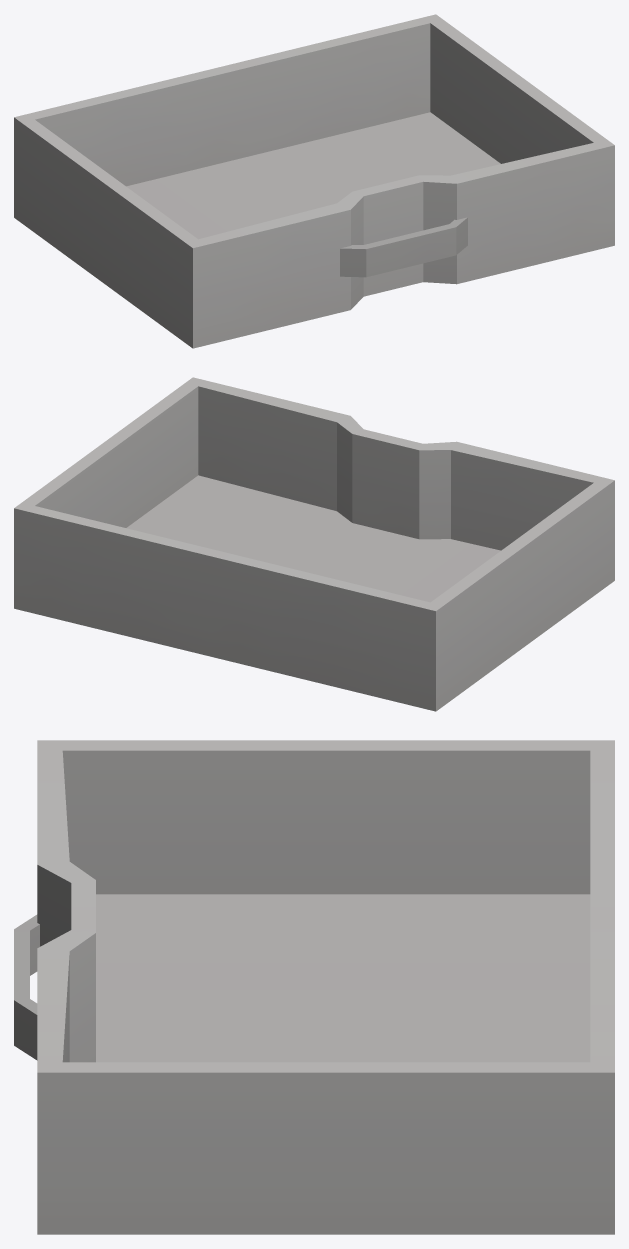
File: PhotoCopier_Drawer_3.fbx
The picture shows the model from 3 angles, top to bottom: view 1: azimuth 30°, elevation 25°; view 2: azimuth 150°, elevation 25°; view 3: azimuth 270°, elevation 25°; orthographic projection. The views are drawn at different scales.
Parts seen in each view (by area): view 1: PhotoCopier_Drawer_3; view 2: PhotoCopier_Drawer_3; view 3: PhotoCopier_Drawer_3.
Part boxes in pixels (x1,y1,x2,y2): PhotoCopier_Drawer_3: (14, 14, 614, 348); PhotoCopier_Drawer_3: (14, 377, 614, 711); PhotoCopier_Drawer_3: (14, 740, 614, 1234).
Bounding box in the file's own units: 47.85 × 10.88 × 36.56.
